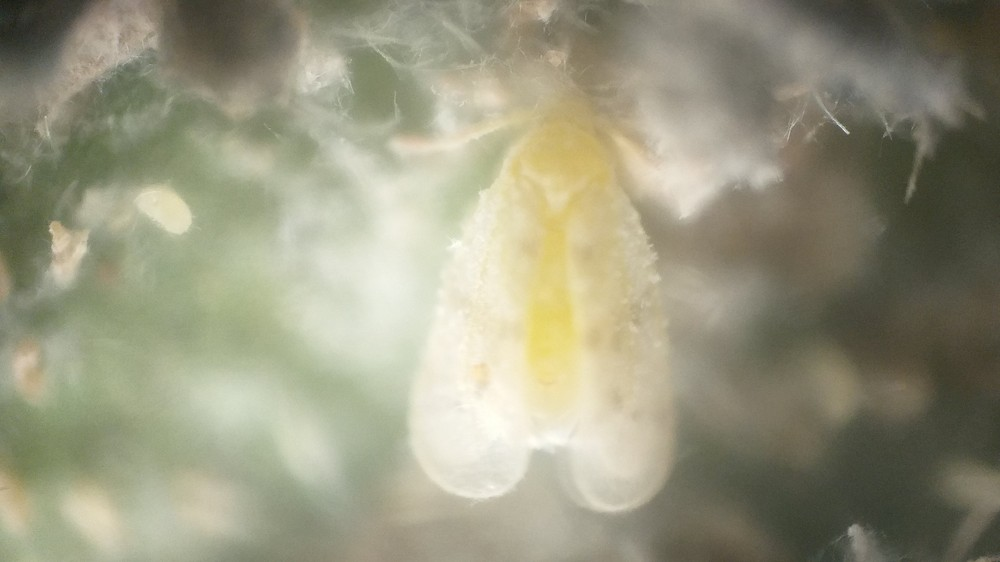Mosca Blanca: (376, 82, 748, 538)
